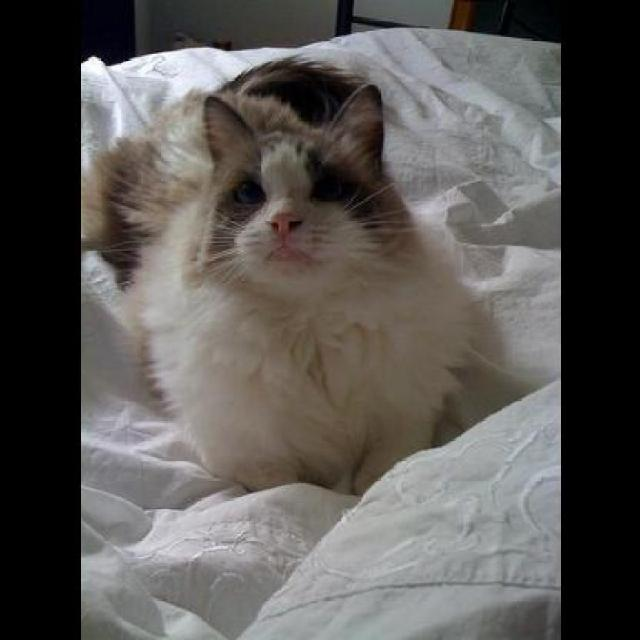unauthorized: (80, 52, 537, 497)
